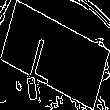L_N: (38, 26, 72, 84)
